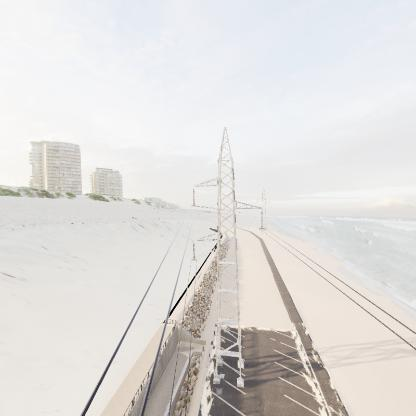tower: (189, 126, 269, 392)
